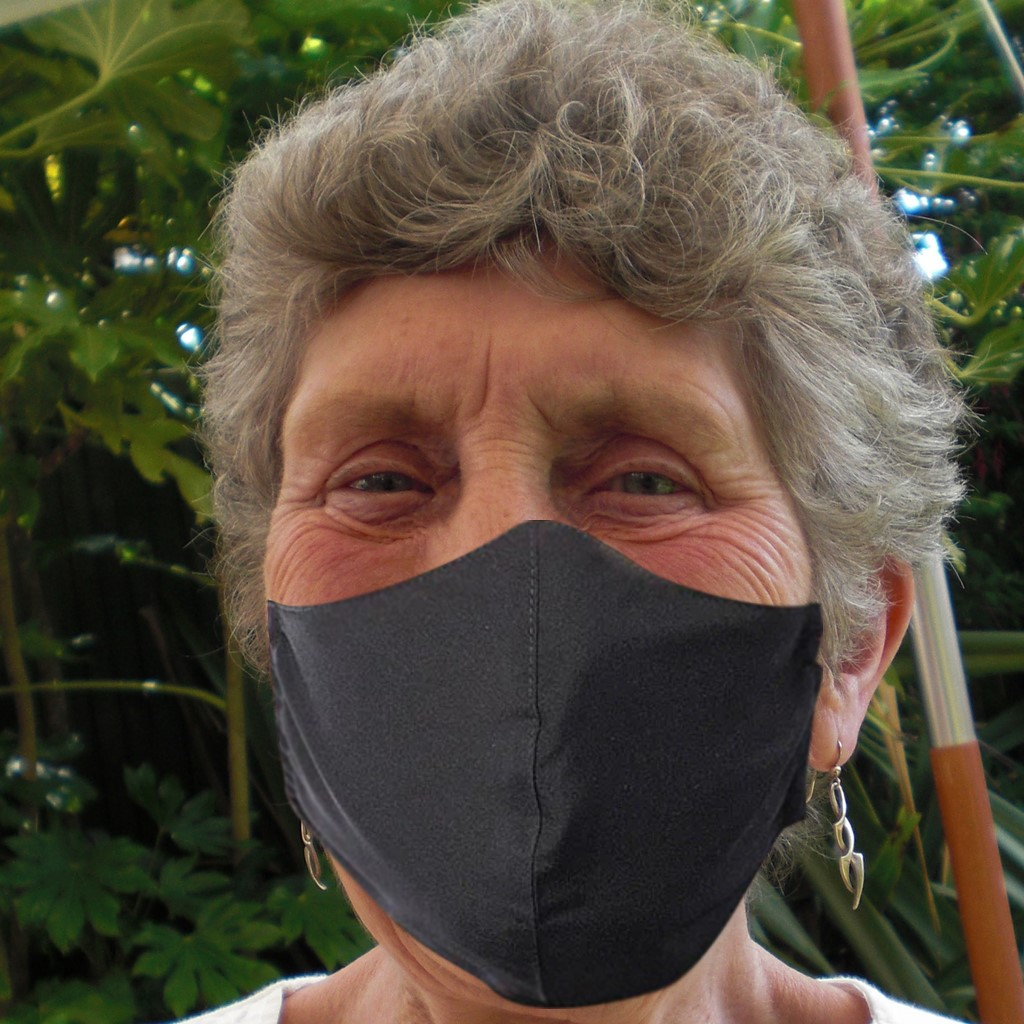con_mascara: (270, 234, 846, 1000)
